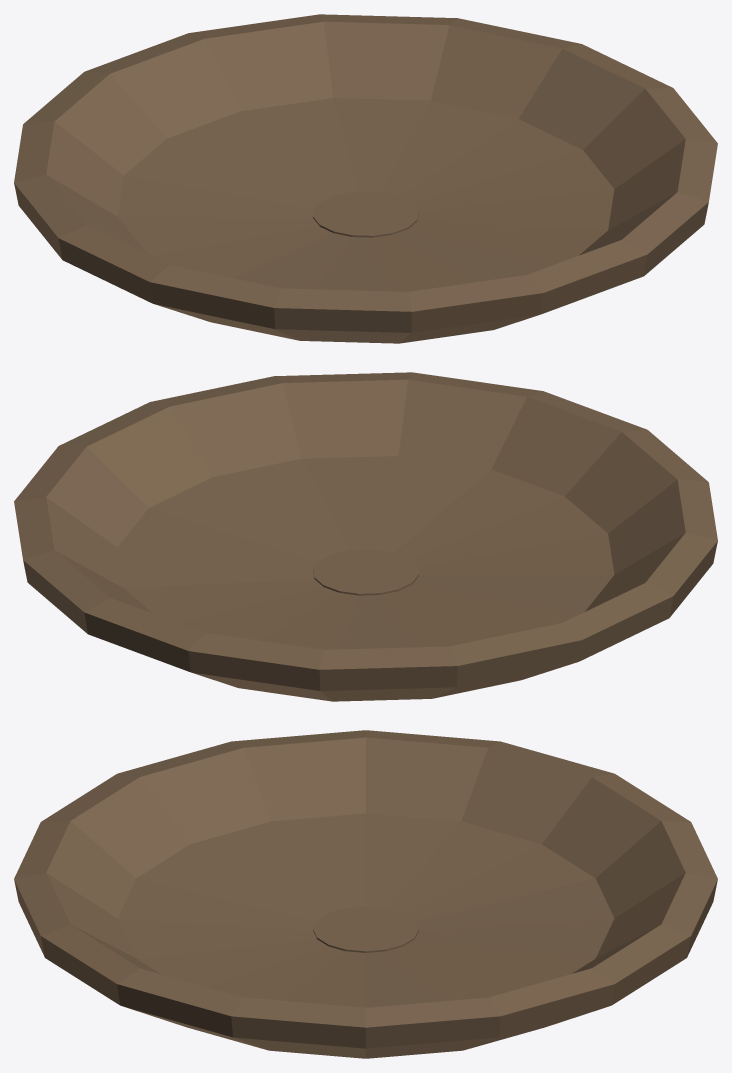
File: SWP_WoodenPlate.fbx
3 views of the same model, one above another, from view 1: azimuth 30°, elevation 25°; view 2: azimuth 150°, elevation 25°; view 3: azimuth 270°, elevation 25° (orthographic).
Parts seen in each view (by area): view 1: SWP_WoodenPlate; view 2: SWP_WoodenPlate; view 3: SWP_WoodenPlate.
Boxes of the visible parts, x1,y1,x2,y2 form: SWP_WoodenPlate: (14, 14, 717, 343); SWP_WoodenPlate: (14, 372, 717, 701); SWP_WoodenPlate: (14, 730, 717, 1058).
Bounding box in the file's own units: 0.306 × 0.046 × 0.306.
